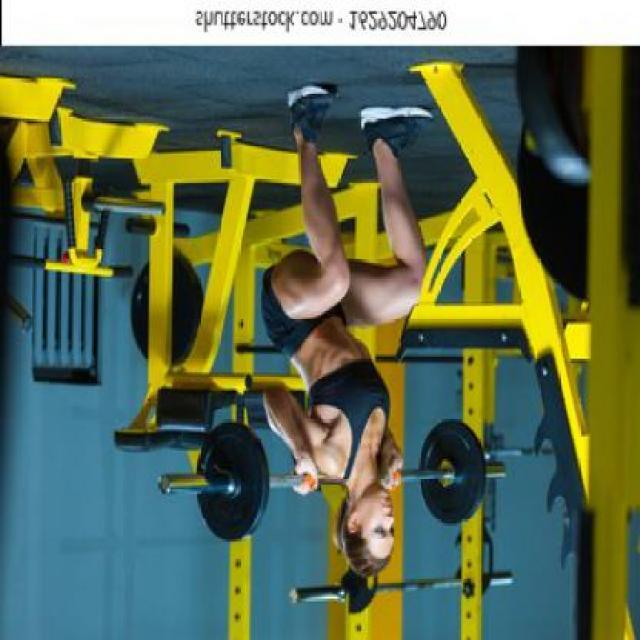Barbell: (154, 469, 176, 502)
